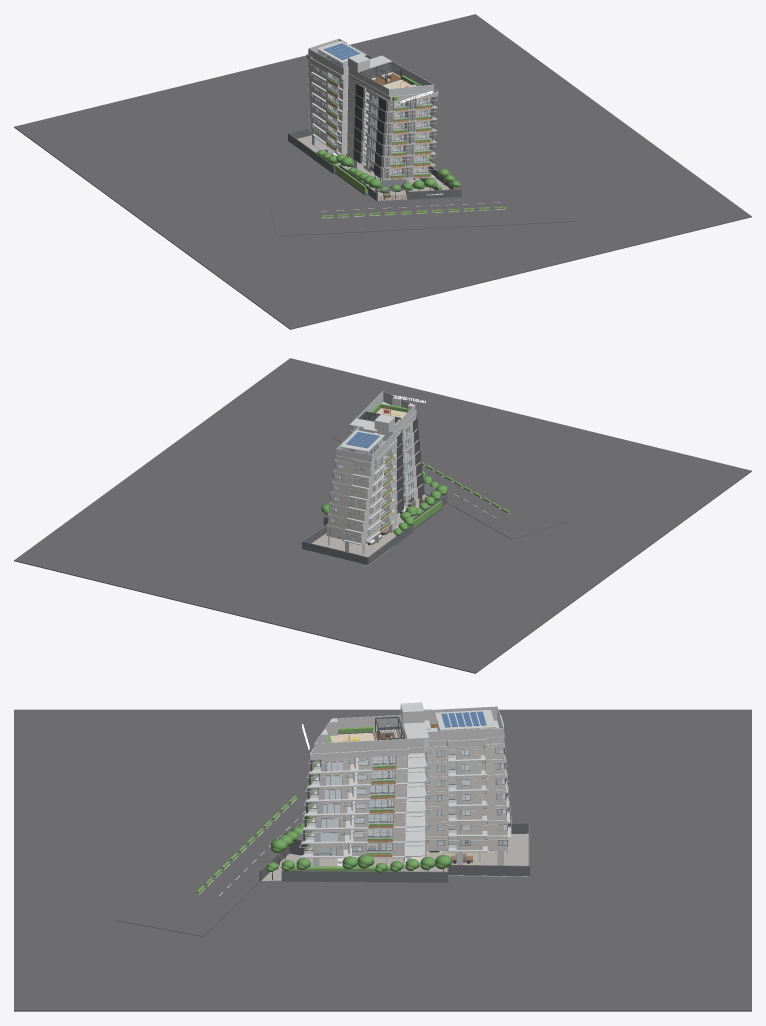
File: naughty_developer.glb
The picture shows the model from 3 angles, top to bottom: view 1: azimuth 30°, elevation 25°; view 2: azimuth 150°, elevation 25°; view 3: azimuth 270°, elevation 25°; orthographic projection. The views are drawn at different scales.
Parts seen in each view (by area): view 1: Site_Terrain_Base, Main_18m_Road, Floor_8_Stair_Cabin_Walls, Plot_Compound_Wall, Landscape_Tree_Canopies, Floor_8_Terrace_Parapet, Plot_Driveway_Pavers, Floor_6_Walls, Floor_3_Walls; view 2: Site_Terrain_Base, Main_18m_Road, Floor_8_Stair_Cabin_Walls, Plot_Compound_Wall, Landscape_Tree_Canopies; view 3: Site_Terrain_Base, Main_18m_Road, Plot_Compound_Wall, Floor_8_Stair_Cabin_Walls, Landscape_Tree_Canopies, Floor_2_Slab_Band, Floor_3_Slab_Band, Floor_4_Slab_Band, Floor_5_Slab_Band, Floor_6_Slab_Band, Floor_7_Slab_Band, Floor_8_Terrace_Parapet (+19 smaller).
Boxes of the visible parts, x1,y1,x2,y2 form: Site_Terrain_Base: [14, 14, 751, 329]; Main_18m_Road: [269, 191, 576, 236]; Floor_8_Stair_Cabin_Walls: [308, 38, 433, 96]; Plot_Compound_Wall: [288, 127, 461, 200]; Landscape_Tree_Canopies: [316, 150, 460, 193]; Floor_8_Terrace_Parapet: [306, 53, 438, 100]; Plot_Driveway_Pavers: [297, 135, 450, 200]; Floor_6_Walls: [308, 70, 428, 121]; Floor_3_Walls: [309, 101, 428, 155]; Site_Terrain_Base: [14, 358, 751, 673]; Main_18m_Road: [332, 431, 568, 539]; Floor_8_Stair_Cabin_Walls: [336, 391, 415, 462]; Plot_Compound_Wall: [302, 495, 447, 564]; Landscape_Tree_Canopies: [321, 471, 447, 535]; Site_Terrain_Base: [14, 709, 751, 1011]; Main_18m_Road: [116, 764, 314, 936]; Plot_Compound_Wall: [259, 823, 529, 882]; Floor_8_Stair_Cabin_Walls: [314, 706, 503, 753]; Landscape_Tree_Canopies: [266, 816, 451, 872]; Floor_2_Slab_Band: [300, 801, 510, 844]; Floor_3_Slab_Band: [302, 786, 509, 830]; Floor_4_Slab_Band: [303, 770, 508, 816]; Floor_5_Slab_Band: [305, 755, 507, 802]; Floor_6_Slab_Band: [306, 745, 505, 788]; Floor_7_Slab_Band: [308, 732, 504, 774]; Floor_8_Terrace_Parapet: [309, 715, 504, 759].
Bounding box in the file's own units: 135 × 33.41 × 140.
52 materials, 4 textured.
